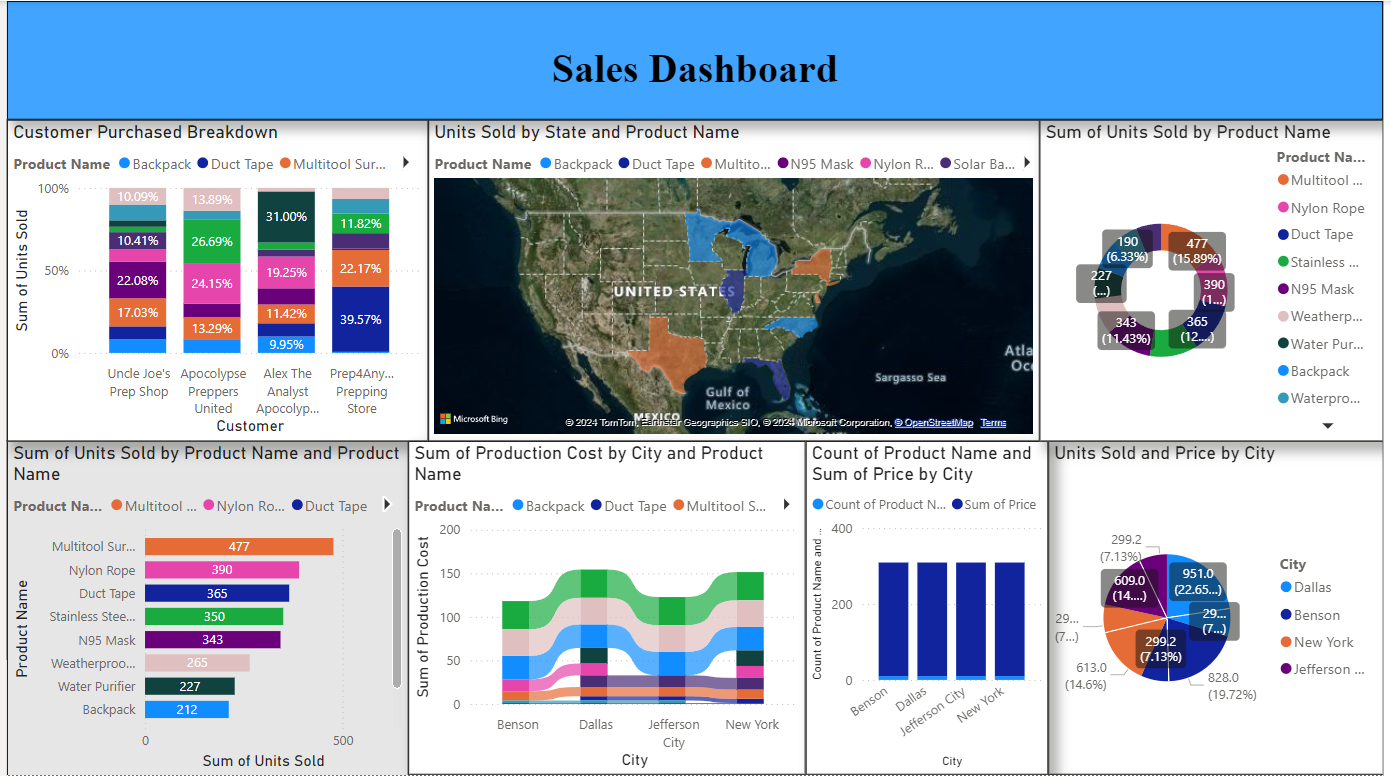

What the dashboard file says about the page in this screenshot:
{"tool":"powerbi","page":{"name":"Page 1","canvas":[1280,720],"ordinal":0},"visuals":[{"type":"barChart","fields":{"Category":["Apocolypse Store.Product Name"],"Y":["Sum(Apocolypse Sales.Units Sold)"],"Series":["Apocolypse Store.Product Name"]},"box":[0,409.3,373.3,311.6],"z":0},{"type":"hundredPercentStackedColumnChart","title":"Customer Purchased Breakdown","fields":{"Category":["Customer Information.Customer"],"Y":["Sum(Apocolypse Sales.Units Sold)"],"Series":["Apocolypse Store.Product Name"]},"box":[0,110.5,391.9,298.8],"z":1000},{"type":"actionButton","box":[0,0,100,40],"z":1002},{"type":"filledMap","fields":{"Category":["Customer Buyer Information.State"],"Series":["Apocolypse Store.Product Name"]},"box":[391.9,110.5,568.6,298.8],"z":1003},{"type":"ribbonChart","fields":{"Category":["Customer Information.City"],"Series":["Apocolypse Store.Product Name"],"Y":["Sum(Apocolypse Store.Production Cost)"]},"box":[373.3,409.3,369.8,310.5],"z":1004},{"type":"pieChart","fields":{"Category":["Customer Information.City"],"Y":["Sum(Apocolypse Sales.Units Sold)","Sum(Apocolypse Store.Price)"]},"box":[968.6,409.3,311.6,310.5],"z":1005},{"type":"columnChart","fields":{"Y":["CountNonNull(Apocolypse Store.Product Name)","Sum(Apocolypse Store.Price)"],"Category":["Customer Information.City"]},"box":[743,409.3,225.6,310.5],"z":1006},{"type":"donutChart","fields":{"Y":["Sum(Apocolypse Sales.Units Sold)"],"Category":["Apocolypse Store.Product Name"]},"box":[960.5,110.5,319.8,298.8],"z":1007},{"type":"textbox","box":[0,0,1280.2,110.5],"z":1008}]}

Visuals, with their boxes in screenshot pixels (x1, y1, x2, y2), scaled from the page's 1280x720 canvas onto the 1391x776 screenshot:
barChart - Apocolypse Store.Product Name x Sum(Apocolypse Sales.Units Sold): pyautogui.locateOnScreen(0, 441, 406, 775)
"Customer Purchased Breakdown" hundredPercentStackedColumnChart: pyautogui.locateOnScreen(0, 119, 426, 441)
actionButton: pyautogui.locateOnScreen(0, 0, 109, 43)
filledMap - Customer Buyer Information.State x Apocolypse Store.Product Name: pyautogui.locateOnScreen(426, 119, 1044, 441)
ribbonChart - Customer Information.City x Apocolypse Store.Product Name: pyautogui.locateOnScreen(406, 441, 808, 775)
pieChart - Customer Information.City x Sum(Apocolypse Sales.Units Sold): pyautogui.locateOnScreen(1053, 441, 1390, 775)
columnChart - CountNonNull(Apocolypse Store.Product Name) x Sum(Apocolypse Store.Price): pyautogui.locateOnScreen(807, 441, 1053, 775)
donutChart - Sum(Apocolypse Sales.Units Sold) x Apocolypse Store.Product Name: pyautogui.locateOnScreen(1044, 119, 1390, 441)
textbox: pyautogui.locateOnScreen(0, 0, 1390, 119)
